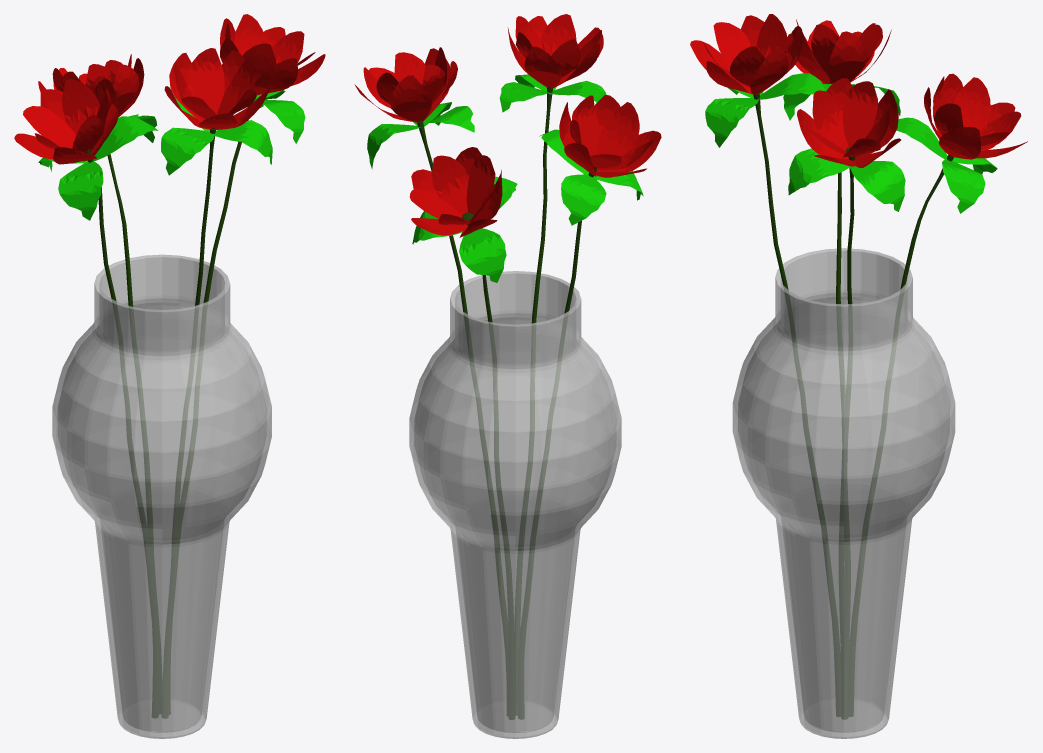
Rendered from glass-flower-vase.obj.
3 renders of one model, left to right at view 1: azimuth 30°, elevation 25°; view 2: azimuth 150°, elevation 25°; view 3: azimuth 270°, elevation 25°, orthographic. The views are drawn at different scales.
Parts seen in each view (by area): view 1: vase, red_leaf, branch, green_leaf; view 2: vase, red_leaf, branch, green_leaf; view 3: vase, red_leaf, branch, green_leaf.
Boxes of the visible parts, x1,y1,x2,y2 form: vase: (52,254,271,738); red_leaf: (14,14,325,164); branch: (86,106,248,718); green_leaf: (38,90,305,220); vase: (409,271,621,738); red_leaf: (354,14,661,237); branch: (417,86,597,719); green_leaf: (367,74,643,282); vase: (732,248,955,738); red_leaf: (690,14,1027,167); branch: (753,92,953,719); green_leaf: (705,73,997,213).
Bounding box in the file's own units: 17.42 × 38.34 × 16.89.
